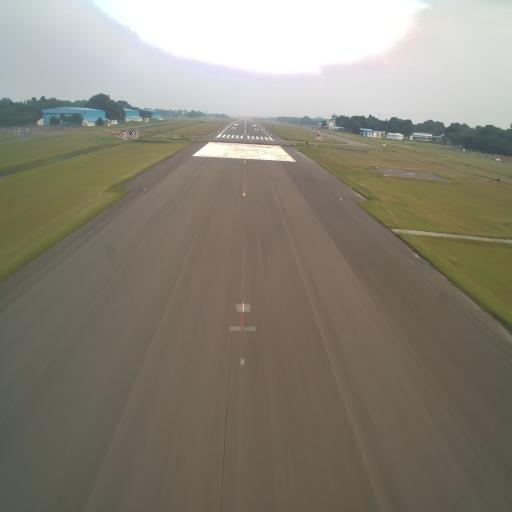off: (238, 353, 246, 371)
on: (240, 297, 246, 315), (243, 191, 247, 198)
